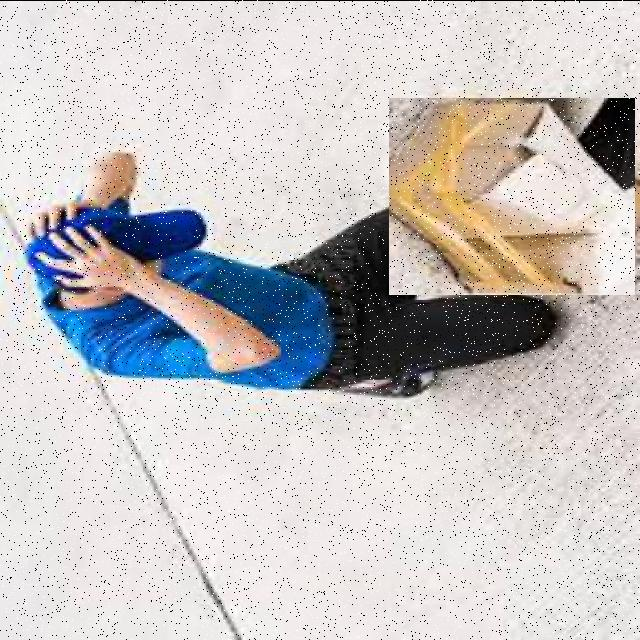defect: (390, 97, 636, 294)
